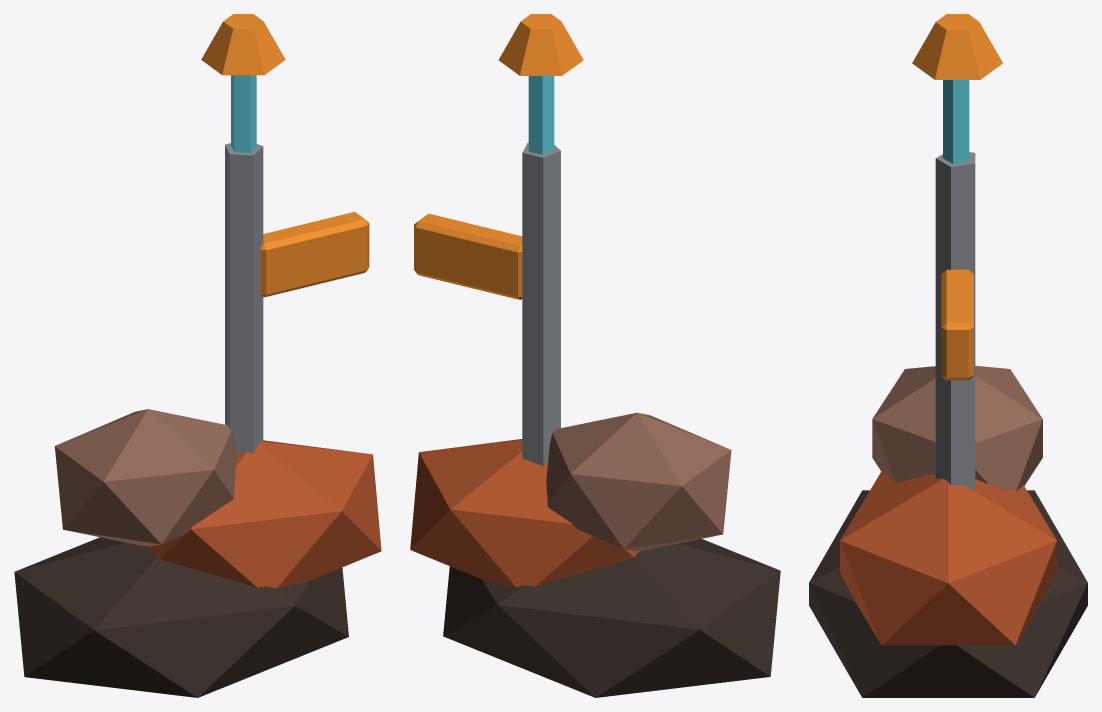
File: road_marker.glb
3 renders of one model, left to right at view 1: azimuth 30°, elevation 25°; view 2: azimuth 150°, elevation 25°; view 3: azimuth 270°, elevation 25°, orthographic. The views are drawn at different scales.
Parts seen in each view (by area): view 1: road_marker; view 2: road_marker; view 3: road_marker.
Boxes of the visible parts, x1=… form: road_marker: x1=14, y1=14, x2=381, y2=697; road_marker: x1=410, y1=14, x2=780, y2=697; road_marker: x1=809, y1=14, x2=1087, y2=697.
Size of the model in its own units: 0.2378 by 0.4125 by 0.1531.
